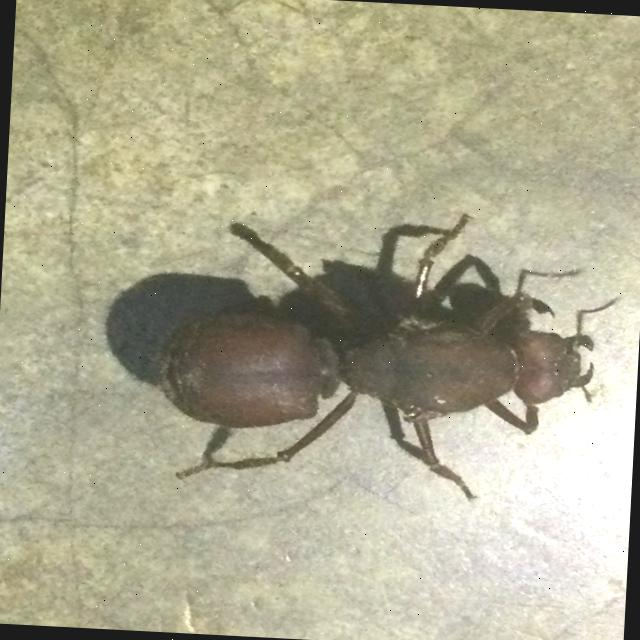Alive-Female-Dealate: (145, 198, 624, 510)
